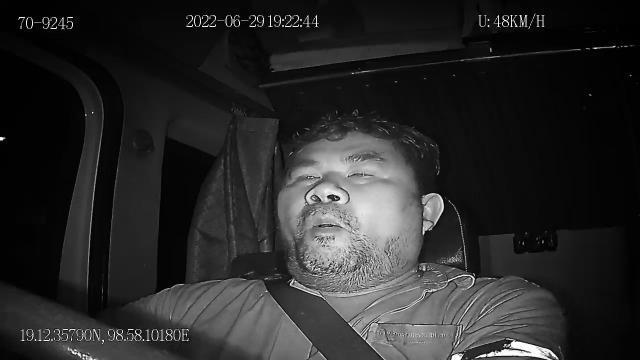SafeDriving: (342, 156, 386, 185)
Seatbelt: (261, 272, 389, 360)
